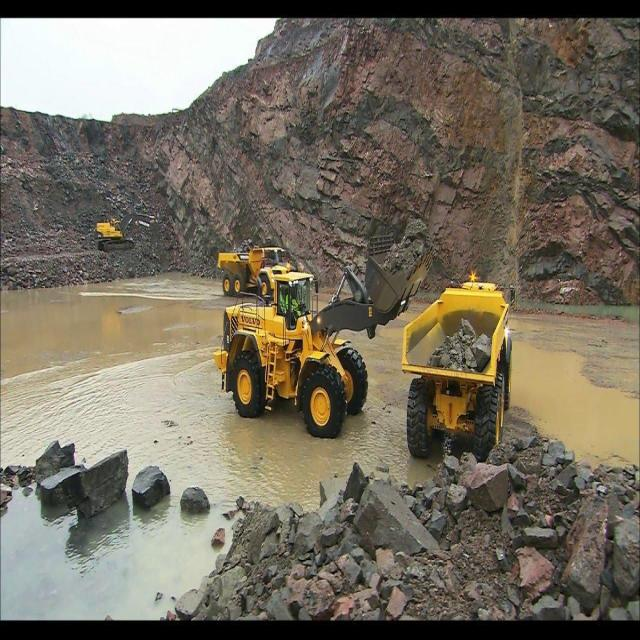Dump Truck: (397, 274, 514, 458)
Loader: (212, 255, 421, 438)
